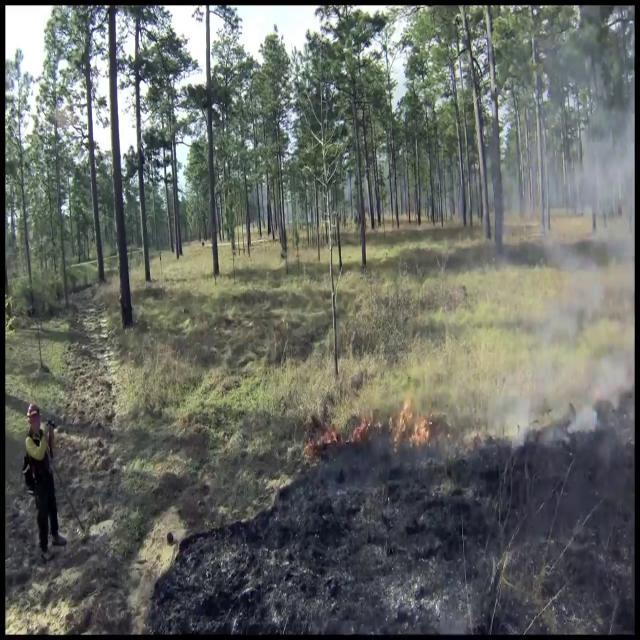Fire: (389, 389, 432, 451)
Smoke: (430, 42, 634, 456)
